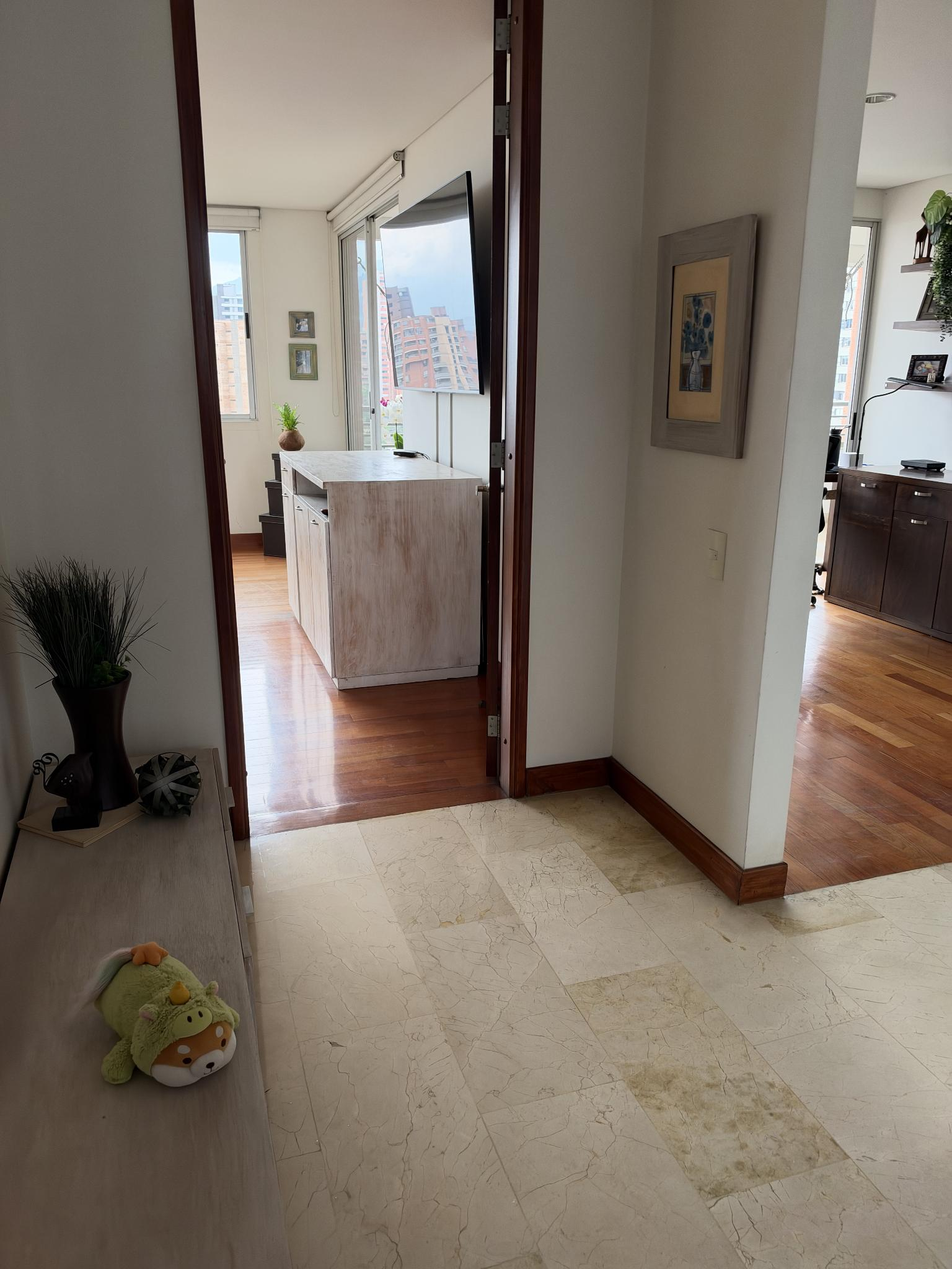peluche_martin: (68, 941, 241, 1089)
